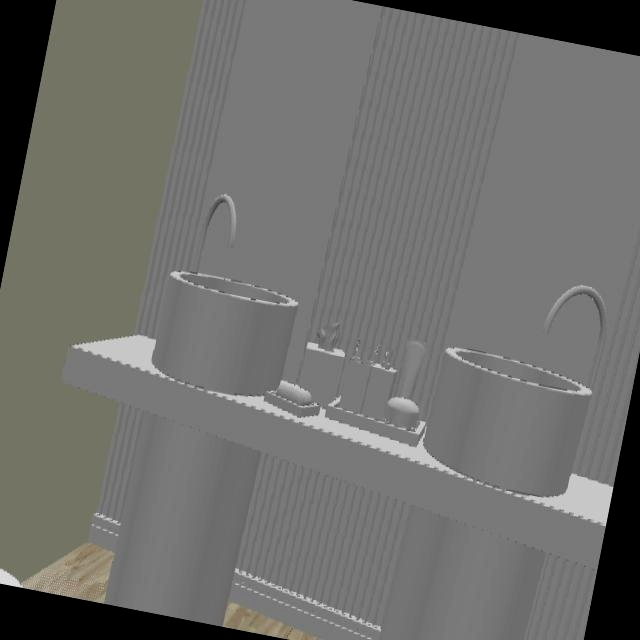washbasin: (422, 349, 588, 499), (152, 270, 298, 399)
